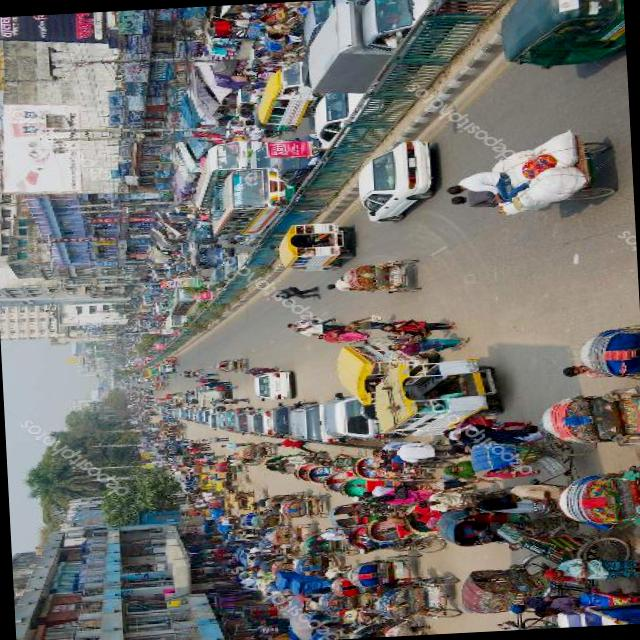bus: (368, 354, 503, 438), (342, 336, 439, 395), (210, 168, 282, 240), (354, 351, 440, 405), (275, 222, 355, 273), (252, 62, 312, 130), (193, 144, 232, 207), (208, 140, 262, 176), (166, 282, 207, 317), (160, 314, 186, 330), (141, 368, 158, 378), (139, 389, 151, 397)
car: (356, 137, 436, 225), (314, 94, 382, 148), (273, 135, 321, 187), (288, 401, 340, 444), (332, 394, 374, 442), (320, 393, 350, 440), (250, 370, 294, 402), (248, 138, 288, 168), (186, 248, 232, 270), (270, 402, 296, 440), (244, 34, 267, 70), (248, 408, 276, 437), (235, 85, 259, 118), (220, 253, 248, 279), (223, 115, 248, 138), (234, 410, 256, 436), (222, 408, 246, 430), (191, 224, 213, 244), (167, 442, 188, 457), (208, 268, 224, 286), (235, 235, 257, 248), (206, 411, 221, 430), (214, 411, 228, 431), (181, 392, 197, 406), (176, 242, 192, 256), (185, 406, 198, 421), (200, 410, 212, 426), (193, 385, 210, 394), (164, 408, 174, 419), (194, 412, 203, 424), (151, 305, 163, 314), (172, 408, 182, 418), (177, 408, 186, 418), (162, 363, 172, 372), (180, 411, 188, 422), (170, 408, 177, 418), (190, 413, 193, 422)
motorcycle: (470, 422, 606, 546), (504, 520, 633, 596), (455, 552, 569, 634), (492, 0, 624, 70), (537, 385, 640, 453), (400, 486, 520, 539), (553, 463, 640, 532), (374, 576, 462, 624), (346, 520, 444, 557), (438, 507, 522, 550), (579, 324, 640, 382), (348, 453, 454, 486), (340, 256, 420, 297), (362, 510, 438, 547), (347, 553, 420, 587), (344, 606, 417, 640), (335, 474, 407, 500), (300, 526, 355, 560), (325, 502, 386, 532), (263, 18, 305, 56), (278, 494, 330, 522), (318, 588, 372, 614), (266, 523, 318, 547), (276, 452, 322, 476), (294, 554, 337, 578), (257, 538, 303, 560), (332, 576, 374, 600), (258, 3, 299, 27), (264, 491, 312, 511), (318, 471, 352, 496), (237, 442, 276, 461), (302, 464, 336, 485), (250, 512, 285, 528), (222, 452, 257, 468), (214, 358, 246, 375), (254, 61, 276, 84), (215, 460, 248, 475), (268, 561, 294, 577), (260, 457, 282, 472), (252, 47, 274, 62), (284, 194, 306, 208), (292, 464, 308, 483), (253, 127, 296, 134), (259, 127, 278, 140), (178, 452, 193, 466), (190, 465, 210, 475), (178, 369, 200, 378), (240, 512, 252, 528), (176, 440, 198, 448), (178, 270, 199, 278), (167, 434, 182, 442), (168, 424, 184, 431), (164, 392, 178, 400), (152, 381, 167, 388), (162, 398, 174, 406), (152, 387, 164, 392), (157, 419, 165, 424), (152, 366, 158, 370), (152, 424, 160, 426)
truck: (300, 0, 471, 95), (195, 473, 226, 495), (198, 389, 230, 408), (146, 427, 154, 434), (137, 378, 146, 382)
